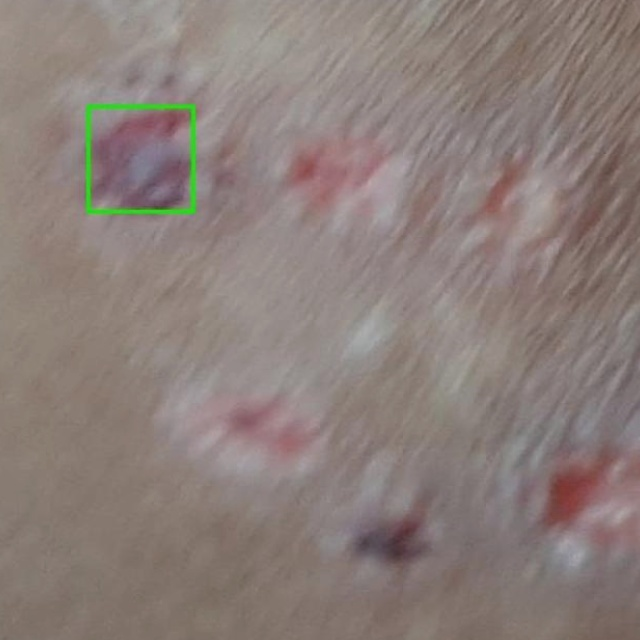Eczema: (88, 106, 193, 211)
